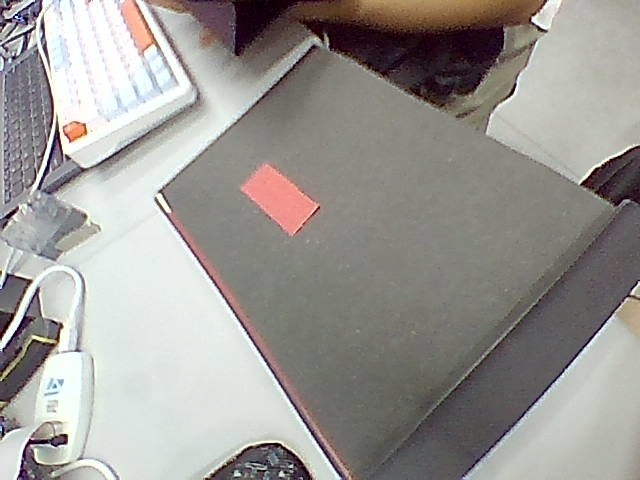card: (241, 163, 318, 235)
